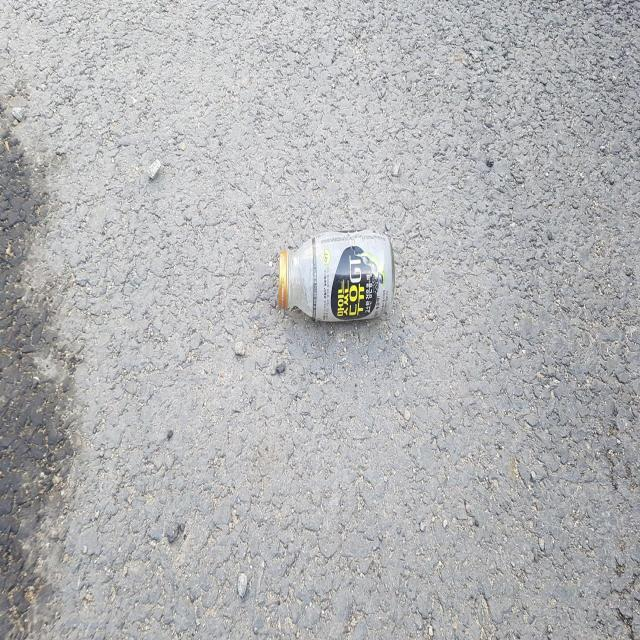glass: (278, 229, 395, 321)
